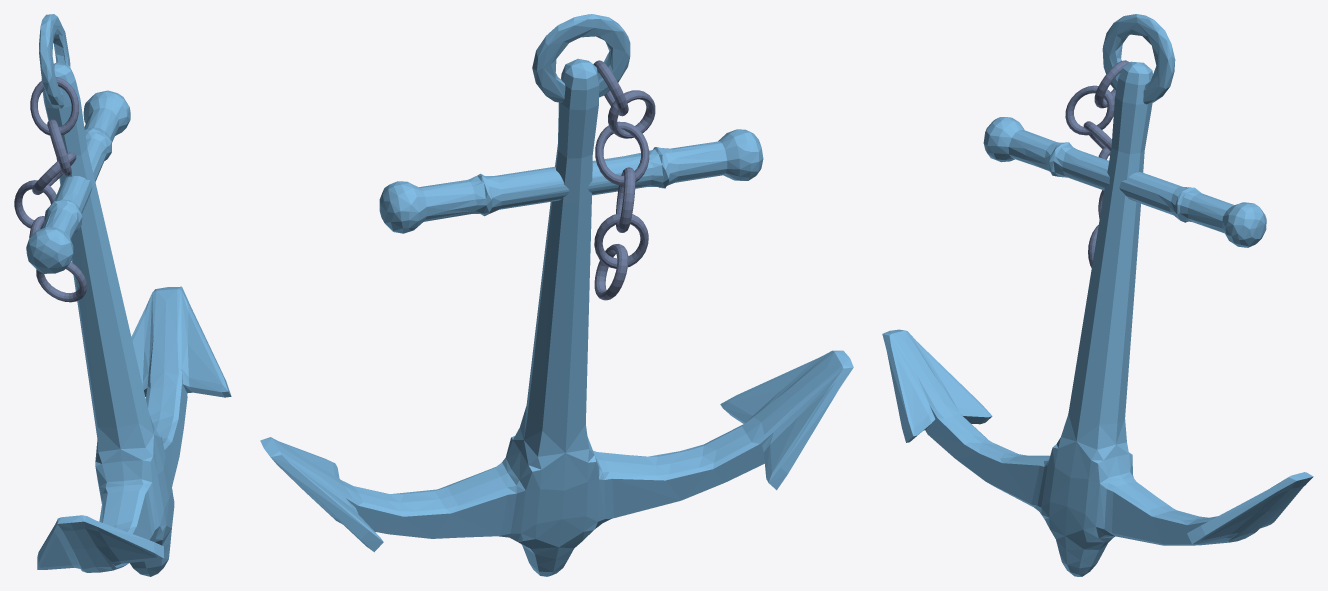
The picture shows the model from 3 angles, left to right: view 1: azimuth 30°, elevation 25°; view 2: azimuth 150°, elevation 25°; view 3: azimuth 270°, elevation 25°; orthographic projection. The views are drawn at different scales.
Visible parts, largest first — view 1: Anchor., Chain; view 2: Anchor., Chain; view 3: Anchor., Chain.
Boxes of the visible parts, x1,y1,x2,y2 form: Anchor.: (26, 14, 231, 576); Chain: (14, 77, 86, 302); Anchor.: (260, 14, 853, 576); Chain: (593, 60, 655, 300); Anchor.: (882, 14, 1313, 576); Chain: (1065, 60, 1129, 267).
Size of the model in its own units: 134 by 213 by 157.
